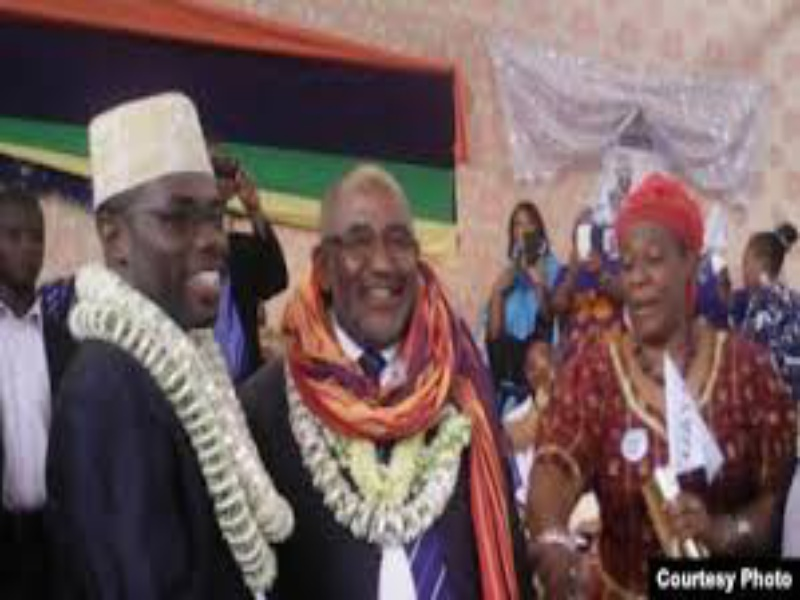ManaoArotava: (118, 19, 612, 499)
